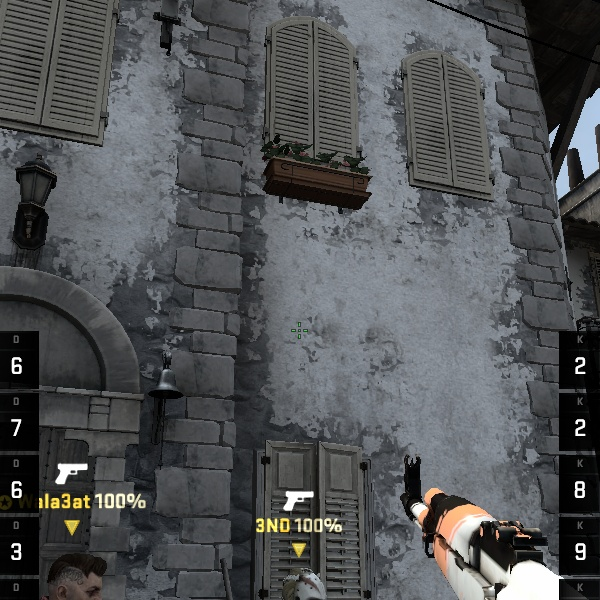t_head: (40, 542, 118, 600)
